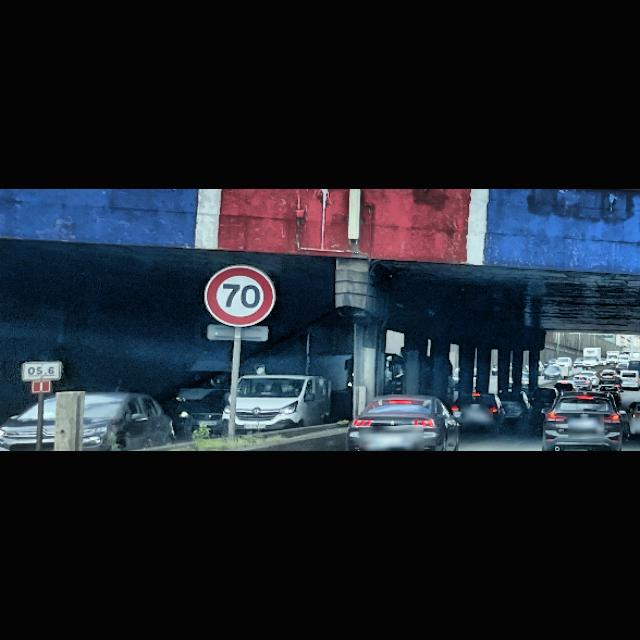speed_70: (202, 267, 274, 329)
